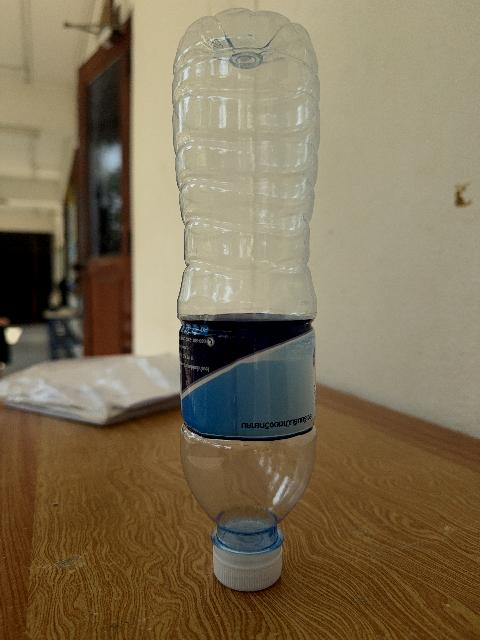bottle: (173, 10, 319, 590)
